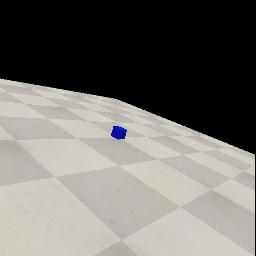box: (111, 126, 127, 140)
